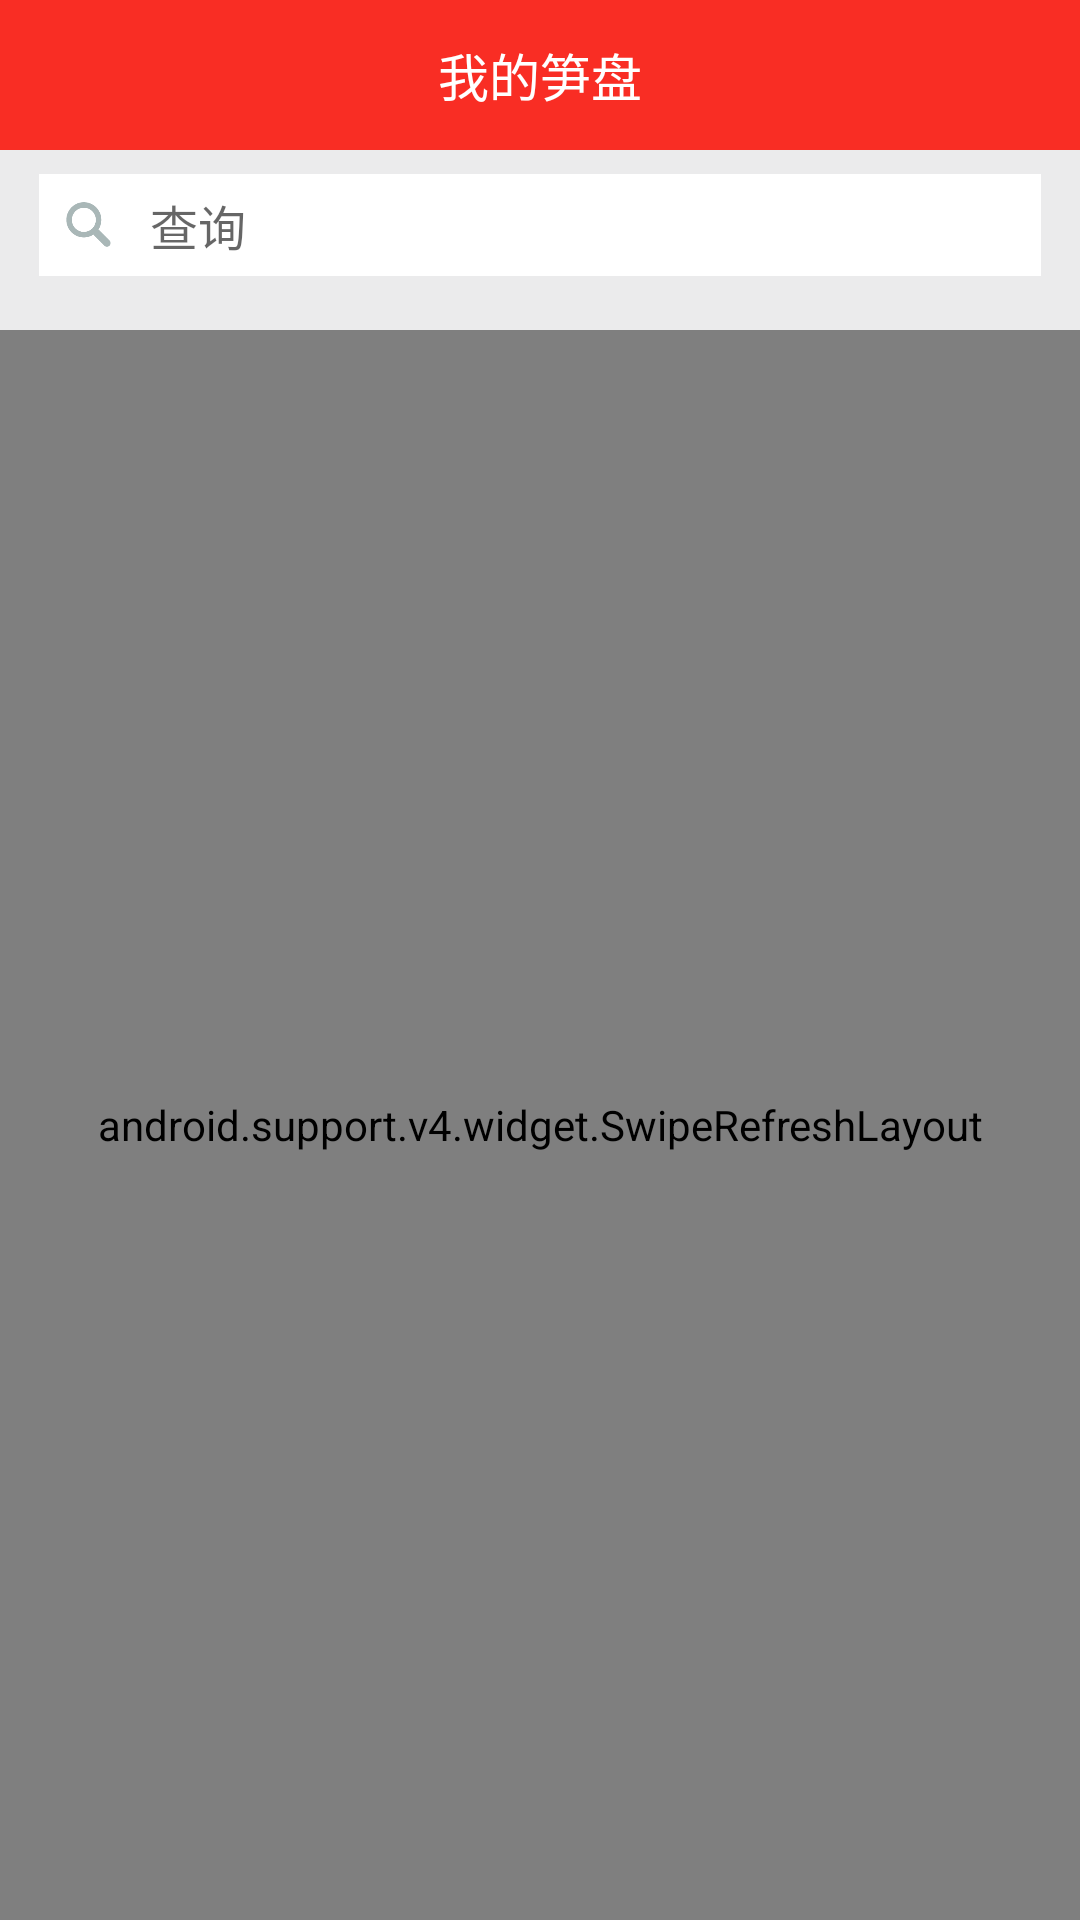

Named icons in this screenshot (1080x1920) and their centers, [x,y]:
search: [88,224]
